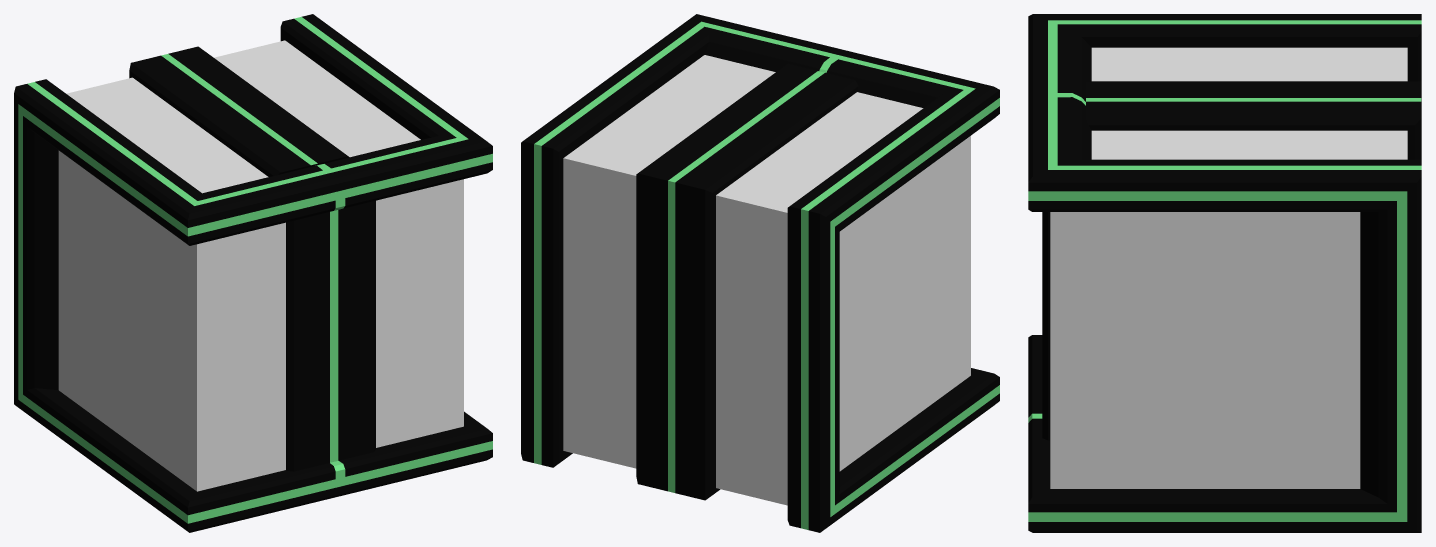
The model's file is cityCubeHQ2.glb.
3 renders of one model, left to right at view 1: azimuth 30°, elevation 25°; view 2: azimuth 150°, elevation 25°; view 3: azimuth 270°, elevation 25°, orthographic. The views are drawn at different scales.
Parts seen in each view (by area): view 1: base.005; view 2: base.005; view 3: base.005.
Part boxes in pixels (bbox=[...]): base.005: bbox=[14, 14, 492, 532]; base.005: bbox=[521, 14, 999, 532]; base.005: bbox=[1028, 14, 1421, 532].
Bounding box in the file's own units: 1.99 × 1.99 × 1.99.
